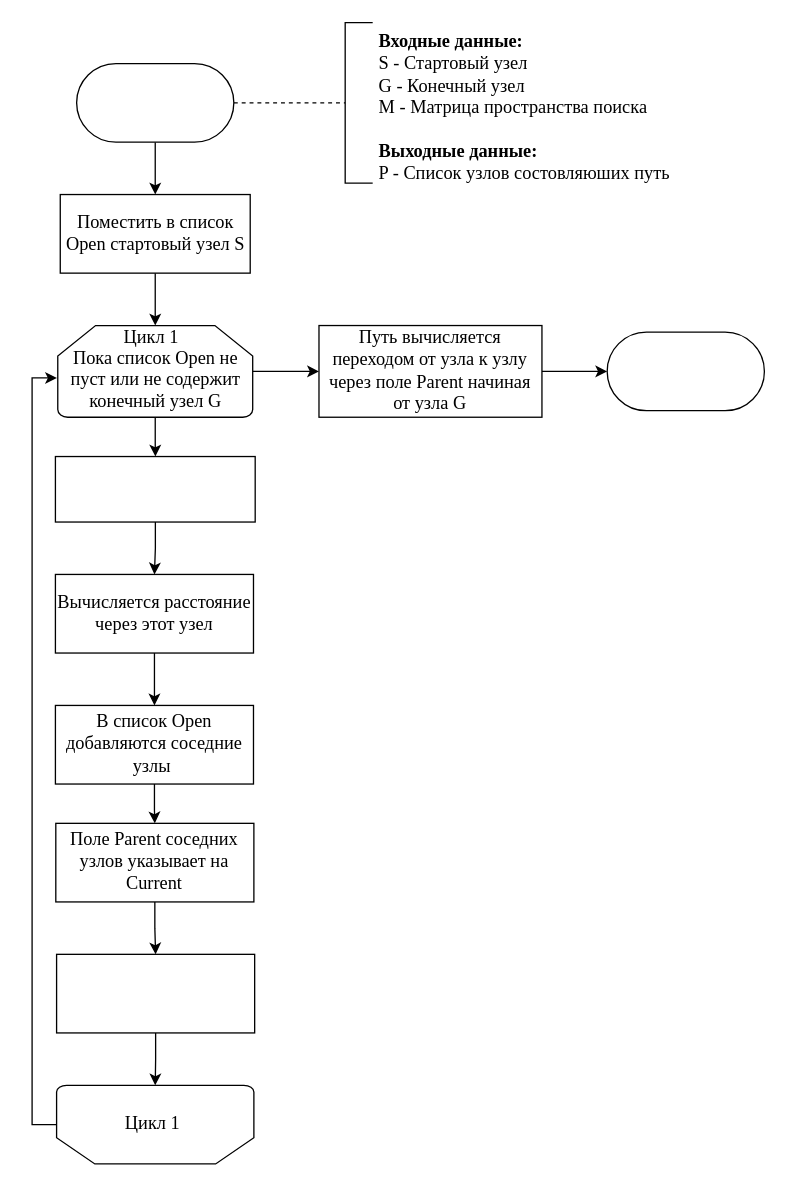
Some shapes in this 787 by 1188 pixel diagram are drawn without their labels. The box of each missing label's shape, as (x1, y1, x2, y2) in pixels:
Из списка Open берется верхний узел Current: (54, 455, 255, 522)
Конец: (606, 331, 764, 411)
Начало: (75, 62, 234, 142)
Узел Current добавляется в список Close: (55, 953, 255, 1033)
